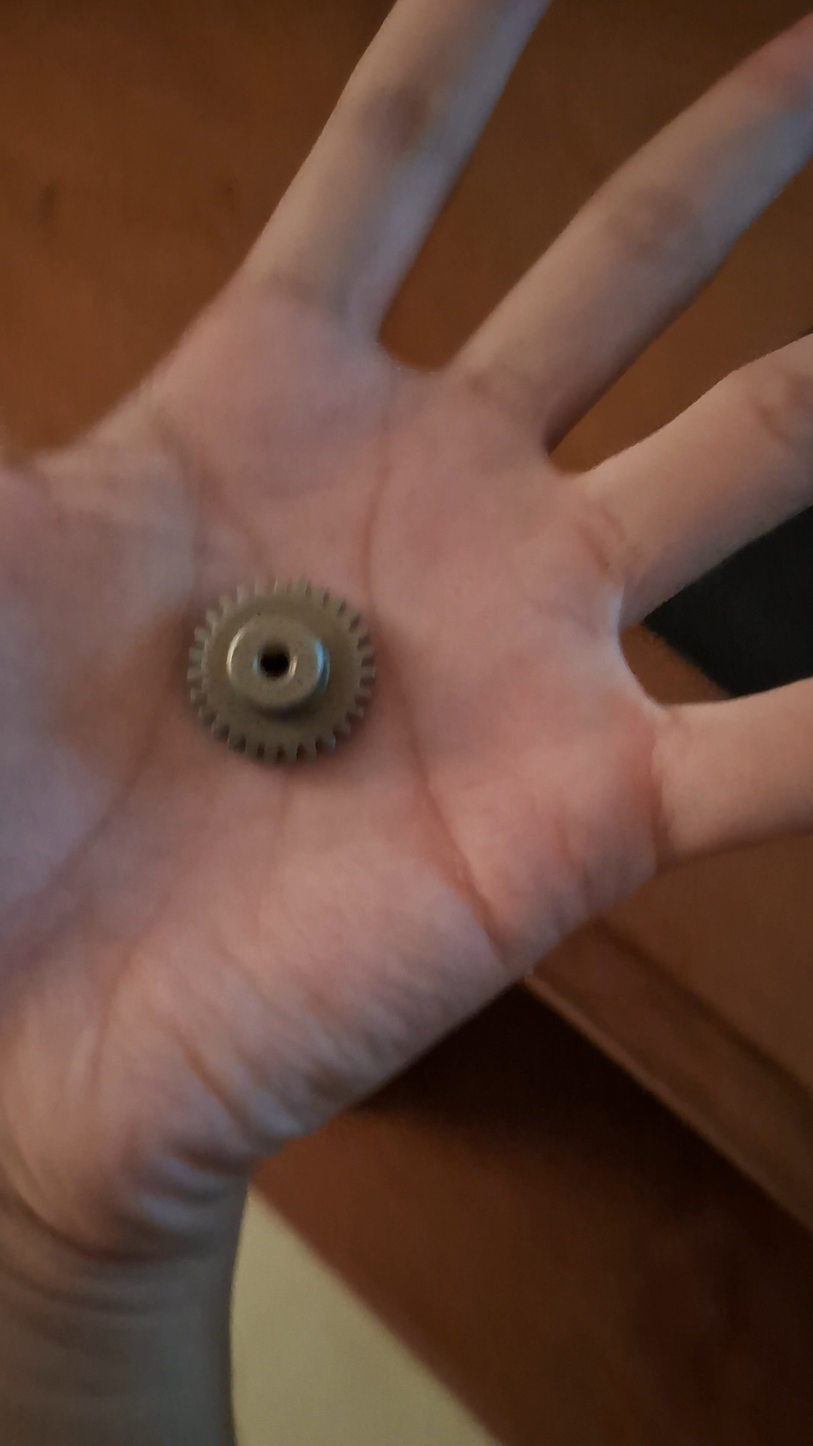spur gear: (187, 580, 375, 763)
